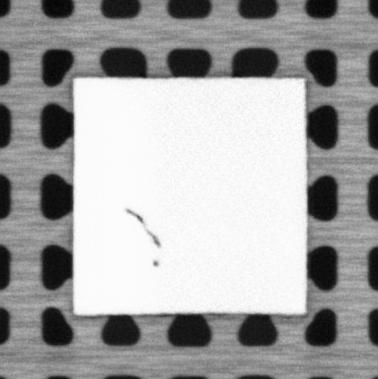DIE_INK: (125, 206, 161, 247), (150, 257, 160, 270)
